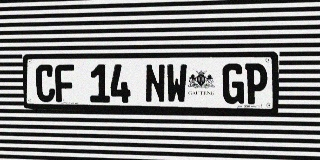1: (90, 64, 110, 103)
4: (110, 64, 130, 103)
C: (35, 64, 55, 102)
F: (55, 64, 75, 102)
G: (222, 63, 244, 104)
N: (145, 64, 166, 103)
P: (245, 63, 268, 104)
W: (166, 64, 187, 103)
